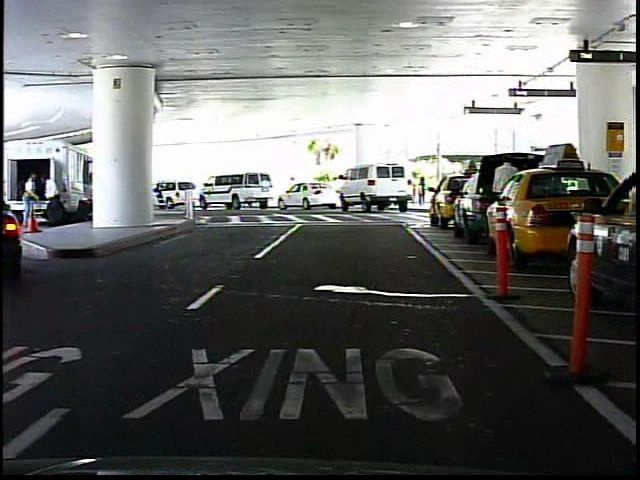person: (486, 152, 521, 244), (415, 175, 430, 207), (285, 173, 300, 204)
